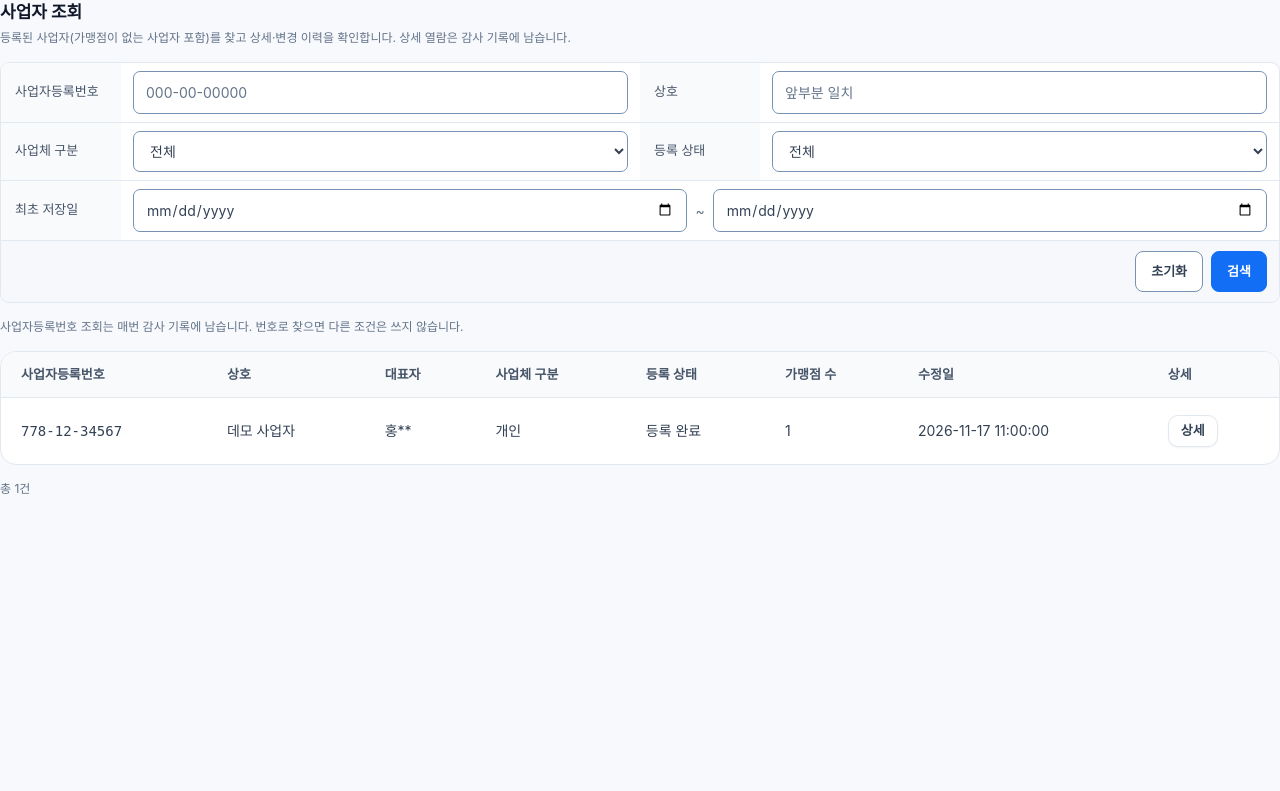
Test case: MERCHANT-IA-001 B2 — 사업자 상세 › ② 머리에 진위확인 배지 없음, 기본정보에 진위확인·국가·등록 상태 줄 없음; 등록 상태 배지와 "등록 완료 ≠ 진위확인·AML/KYB·계약 승인" 안내는 남는다
The width and height of the screenshot is (1280, 791).
Step 1. Click the button with aria-label "데모 사업자 상세" → (1193, 431), box [1168,415,1218,447]
(page scrolled)
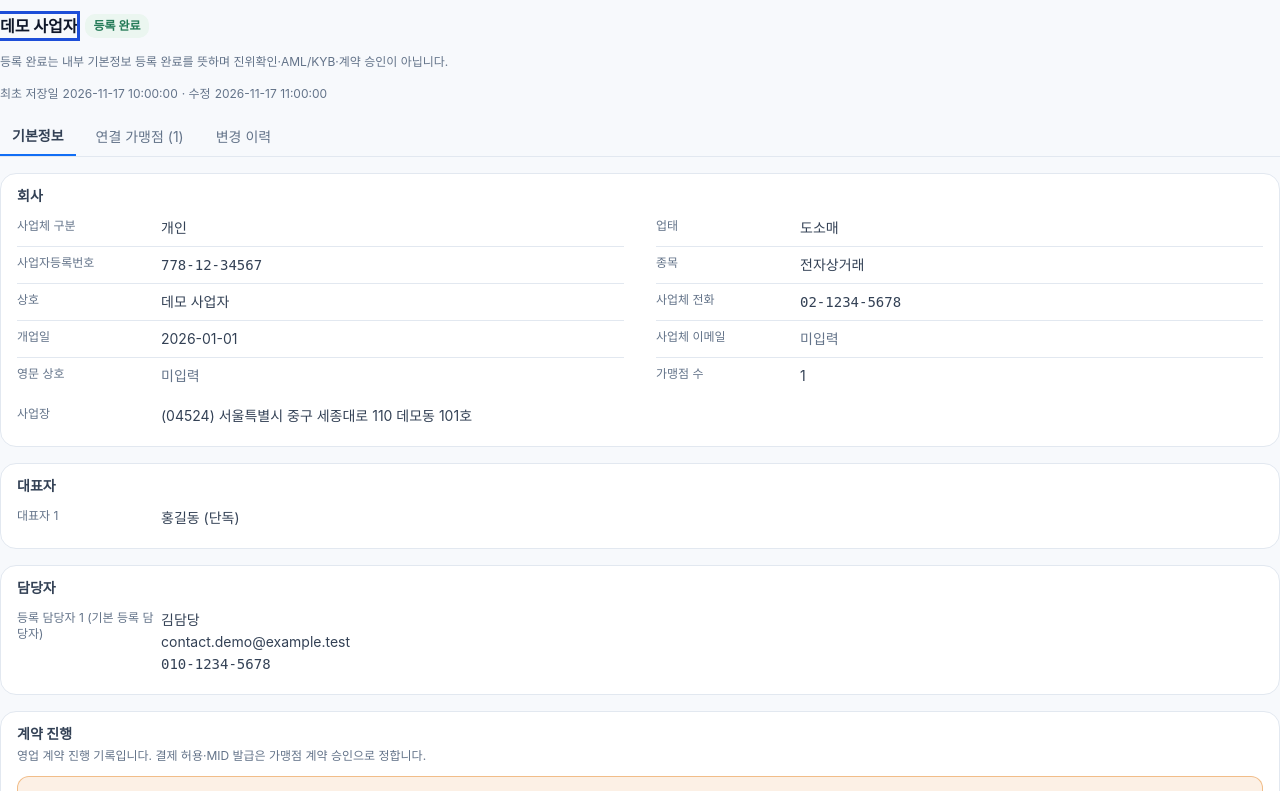
Expected: the text "사업자등록번호" is shown, [17,255,94,270]
Now the text "등록 완료" is shown once, box [85,14,149,38]
Now the element named "사업자 상세" shows "등록 완료는 내부 기본정보 등록 완료를 뜻하며 진위확인·AML/KYB·계약 승인이 아닙니다.", box [0,54,448,69]
